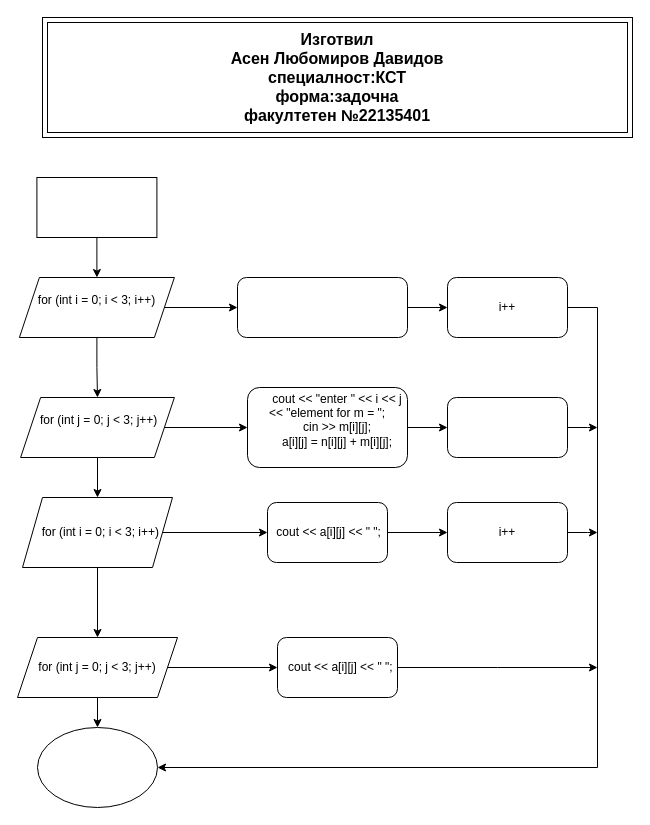
Some shapes in this 650 by 825 pixel diagram are drawn without their labels. The centre of each missing label's shape, as x and y in pixels:
cout << "enter " << i << j << "element for n = "; cin >> n[i][j];: the point at 322,307
cout << endl;: the point at 97,767
int n[3][3]; int m[3][3]; int a[3][3];: the point at 96,207
j++: the point at 507,427
